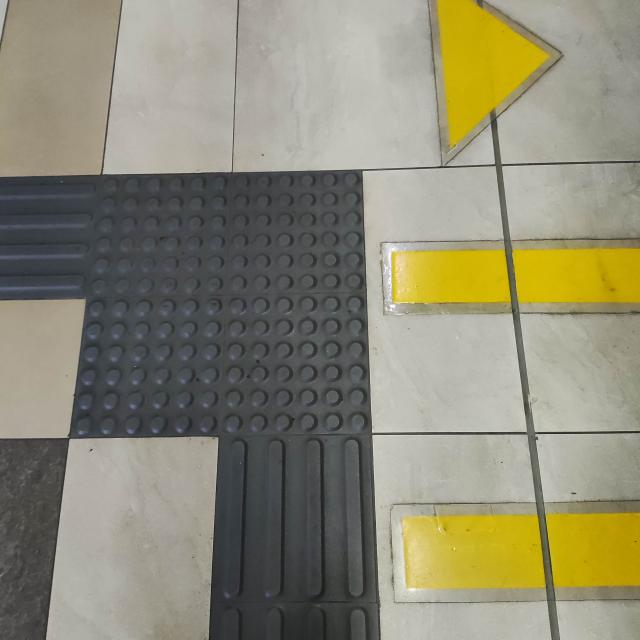kiri: (0, 118, 447, 516)
